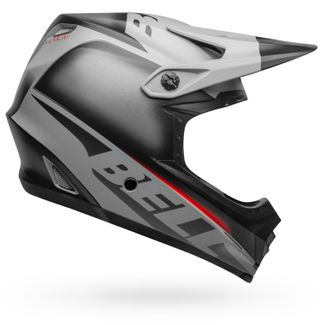with_helmet: (4, 6, 325, 287)
